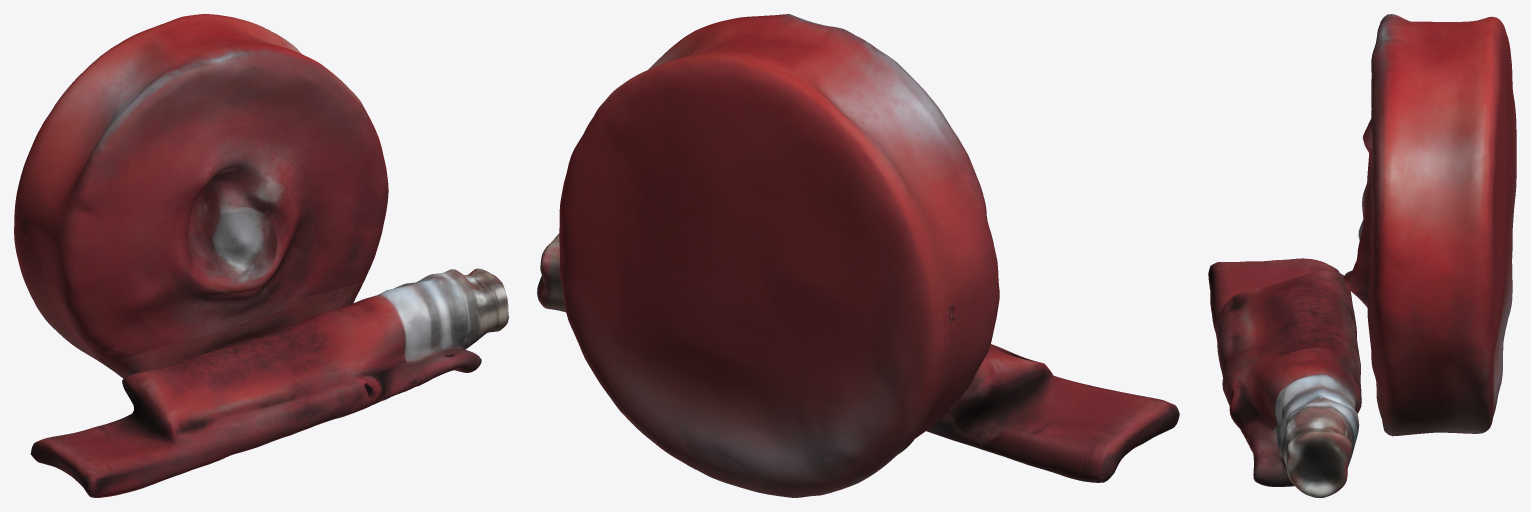
File: fire_hose_brass_0610110055.fbx
3 views of the same model, side by side, from view 1: azimuth 30°, elevation 25°; view 2: azimuth 150°, elevation 25°; view 3: azimuth 270°, elevation 25° (orthographic). The views are drawn at different scales.
Parts seen in each view (by area): view 1: Mesh_0; view 2: Mesh_0; view 3: Mesh_0.
Boxes of the visible parts, x1,y1,x2,y2 form: Mesh_0: (14,14,508,497); Mesh_0: (537,14,1179,497); Mesh_0: (1208,14,1516,497).
Size of the model in its own units: 120 by 86.6 by 63.97.
Materials: 1 (1 with a texture image).
